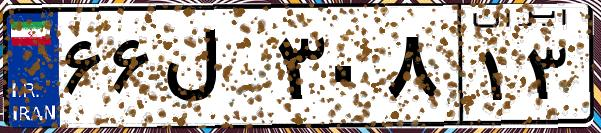0: (330, 28, 385, 110)
1: (475, 38, 525, 113)
3: (270, 28, 330, 110), (525, 38, 570, 115)
6: (57, 26, 110, 100), (110, 28, 158, 98)
8: (385, 28, 445, 110)
ل: (158, 20, 270, 120)
